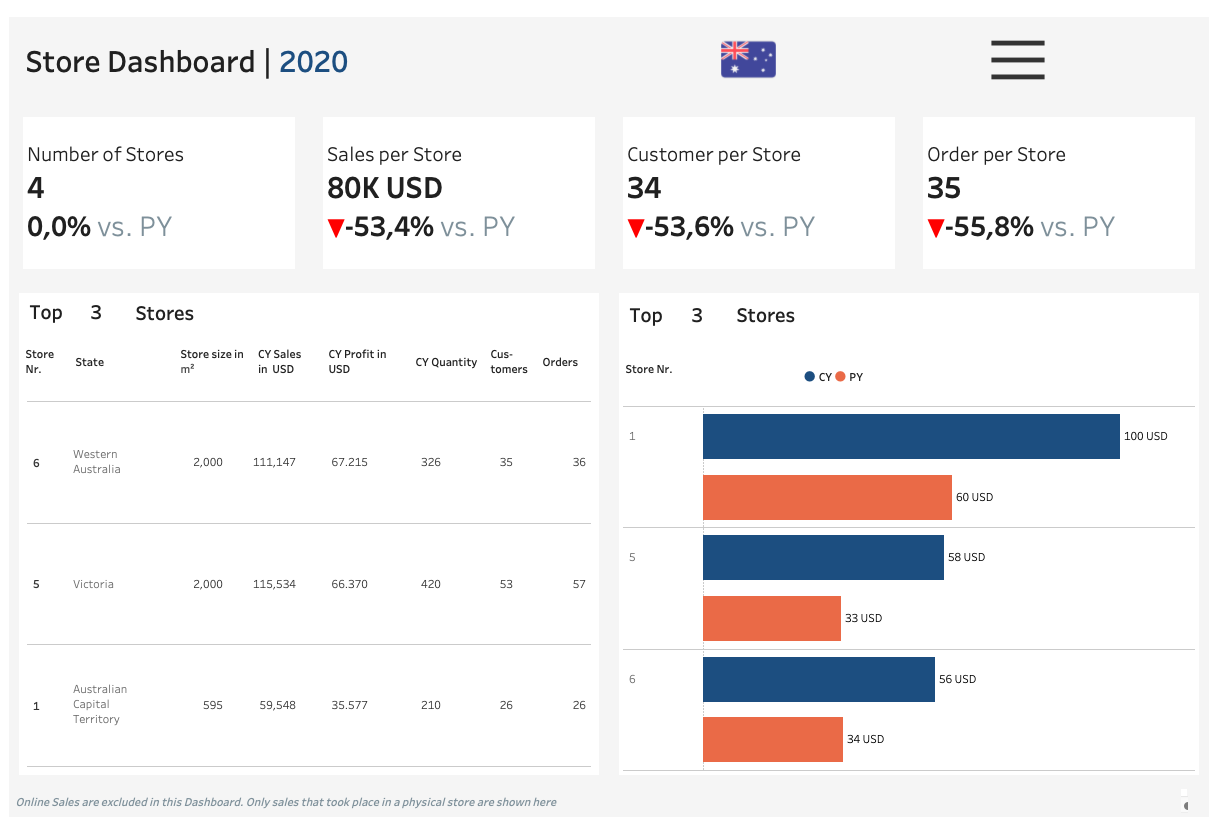

This screenshot's page, from the dashboard's own definition file:
{"tool":"tableau","page":{"name":"Store Dashboard","canvas":[1500,800],"ordinal":3},"visuals":[{"type":"text","box":[1243,4,253,140]},{"type":"text","box":[10,10,495,66]},{"type":"worksheet","title":"Country flag","mark":"Shape","box":[505,10,471,66]},{"type":"blank","box":[976,10,100,66]},{"type":"worksheet","title":"Nr of Stores","mark":"Automatic","box":[0,86,310,180]},{"type":"worksheet","title":"Sales per Store","mark":"Automatic","box":[310,86,310,180]},{"type":"worksheet","title":"Customer per Store","mark":"Automatic","box":[620,86,310,180]},{"type":"worksheet","title":"Order per Store","mark":"Automatic","box":[930,86,309,180]},{"type":"dashboard-object","box":[1243,144,253,52]},{"type":"dashboard-object","box":[1243,196,253,52]},{"type":"dashboard-object","box":[1243,248,253,52]},{"type":"text","box":[10,276,61,36]},{"type":"text","box":[71,276,49,36]},{"type":"text","box":[120,276,264.8,36]},{"type":"blank","box":[384.8,276,224.8,36]},{"type":"text","box":[629.5,276,318,42]},{"type":"text","box":[947.5,276,24,42]},{"type":"text","box":[971.5,276,257.5,42]},{"type":"blank","box":[1243,300,253,83]},{"type":"text","box":[10,312,50,64]},{"type":"text","box":[60,312,105,64]},{"type":"text","box":[165,312,76,64]},{"type":"worksheet","title":"Year Sales in Currency (2)","mark":"Automatic","box":[241,312,70,64]},{"type":"worksheet","title":"Year Profit in Currency (2)","mark":"Automatic","box":[311,312,89,64]},{"type":"text","box":[400,312,75,64]},{"type":"text","box":[475,312,52,64]},{"type":"text","box":[527,312,82.6,64]},{"type":"text","box":[629.5,318,331.5,67]},{"type":"legend","title":"Sales/Profit per sq. m","param":"[federated.1knu0h80e5bia111iriy70sjelb3].[:Measure Names]","box":[961,318,168,67]},{"type":"blank","box":[1129,318,100,67]},{"type":"worksheet","title":"Top N Stores","mark":"Automatic","rows":["Calculation_1781173705810415629","State (Stores.csv)"],"box":[10,376,599.5,382]},{"type":"text","box":[1243,383,253,52]},{"type":"worksheet","title":"Sales/Profit per sq. m","mark":"Automatic","rows":["Calculation_1781173705810415629"],"box":[629.5,385,599.5,373]},{"type":"blank","box":[1243,435,253,83]},{"type":"filter","title":"Country flag","param":"[federated.1knu0h80e5bia111iriy70sjelb3].[none:Country:nk]","box":[1243,518,253,40]},{"type":"parameter","param":"[Parameters].[Parameter 2]","box":[1243,558,253,36]},{"type":"parameter","param":"[Parameters].[Parameter 3]","box":[1243,594,253,36]},{"type":"parameter","param":"[Parameters].[Parameter 7]","box":[1243,630,253,50]},{"type":"blank","box":[1243,680,253,83]},{"type":"text","box":[0,768,1238,32]},{"type":"worksheet","title":"Top 5 Products in Top N Stores","mark":"Automatic","rows":["Calculation_1781173705810415629","Product Name"],"box":[1238,768,1,32]}]}

Visuals, with their boxes on the page's 1500x800 design canvas (x1, y1, x2, y2). These are canvas units, not pixel positions in the 1221x825 screenshot, which may show the page scaled, cropped or inside an application window:
text: bbox(1243, 4, 1496, 144)
text: bbox(10, 10, 505, 76)
"Country flag" worksheet (Shape marks): bbox(505, 10, 976, 76)
blank: bbox(976, 10, 1076, 76)
"Nr of Stores" worksheet: bbox(0, 86, 310, 266)
"Sales per Store" worksheet: bbox(310, 86, 620, 266)
"Customer per Store" worksheet: bbox(620, 86, 930, 266)
"Order per Store" worksheet: bbox(930, 86, 1239, 266)
dashboard-object: bbox(1243, 144, 1496, 196)
dashboard-object: bbox(1243, 196, 1496, 248)
dashboard-object: bbox(1243, 248, 1496, 300)
text: bbox(10, 276, 71, 312)
text: bbox(71, 276, 120, 312)
text: bbox(120, 276, 385, 312)
blank: bbox(385, 276, 610, 312)
text: bbox(630, 276, 948, 318)
text: bbox(948, 276, 972, 318)
text: bbox(972, 276, 1229, 318)
blank: bbox(1243, 300, 1496, 383)
text: bbox(10, 312, 60, 376)
text: bbox(60, 312, 165, 376)
text: bbox(165, 312, 241, 376)
"Year Sales in Currency (2)" worksheet: bbox(241, 312, 311, 376)
"Year Profit in Currency (2)" worksheet: bbox(311, 312, 400, 376)
text: bbox(400, 312, 475, 376)
text: bbox(475, 312, 527, 376)
text: bbox(527, 312, 610, 376)
text: bbox(630, 318, 961, 385)
"Sales/Profit per sq. m" legend: bbox(961, 318, 1129, 385)
blank: bbox(1129, 318, 1229, 385)
"Top N Stores" worksheet: bbox(10, 376, 610, 758)
text: bbox(1243, 383, 1496, 435)
"Sales/Profit per sq. m" worksheet: bbox(630, 385, 1229, 758)
blank: bbox(1243, 435, 1496, 518)
"Country flag" filter: bbox(1243, 518, 1496, 558)
parameter: bbox(1243, 558, 1496, 594)
parameter: bbox(1243, 594, 1496, 630)
parameter: bbox(1243, 630, 1496, 680)
blank: bbox(1243, 680, 1496, 763)
text: bbox(0, 768, 1238, 800)
"Top 5 Products in Top N Stores" worksheet: bbox(1238, 768, 1239, 800)
